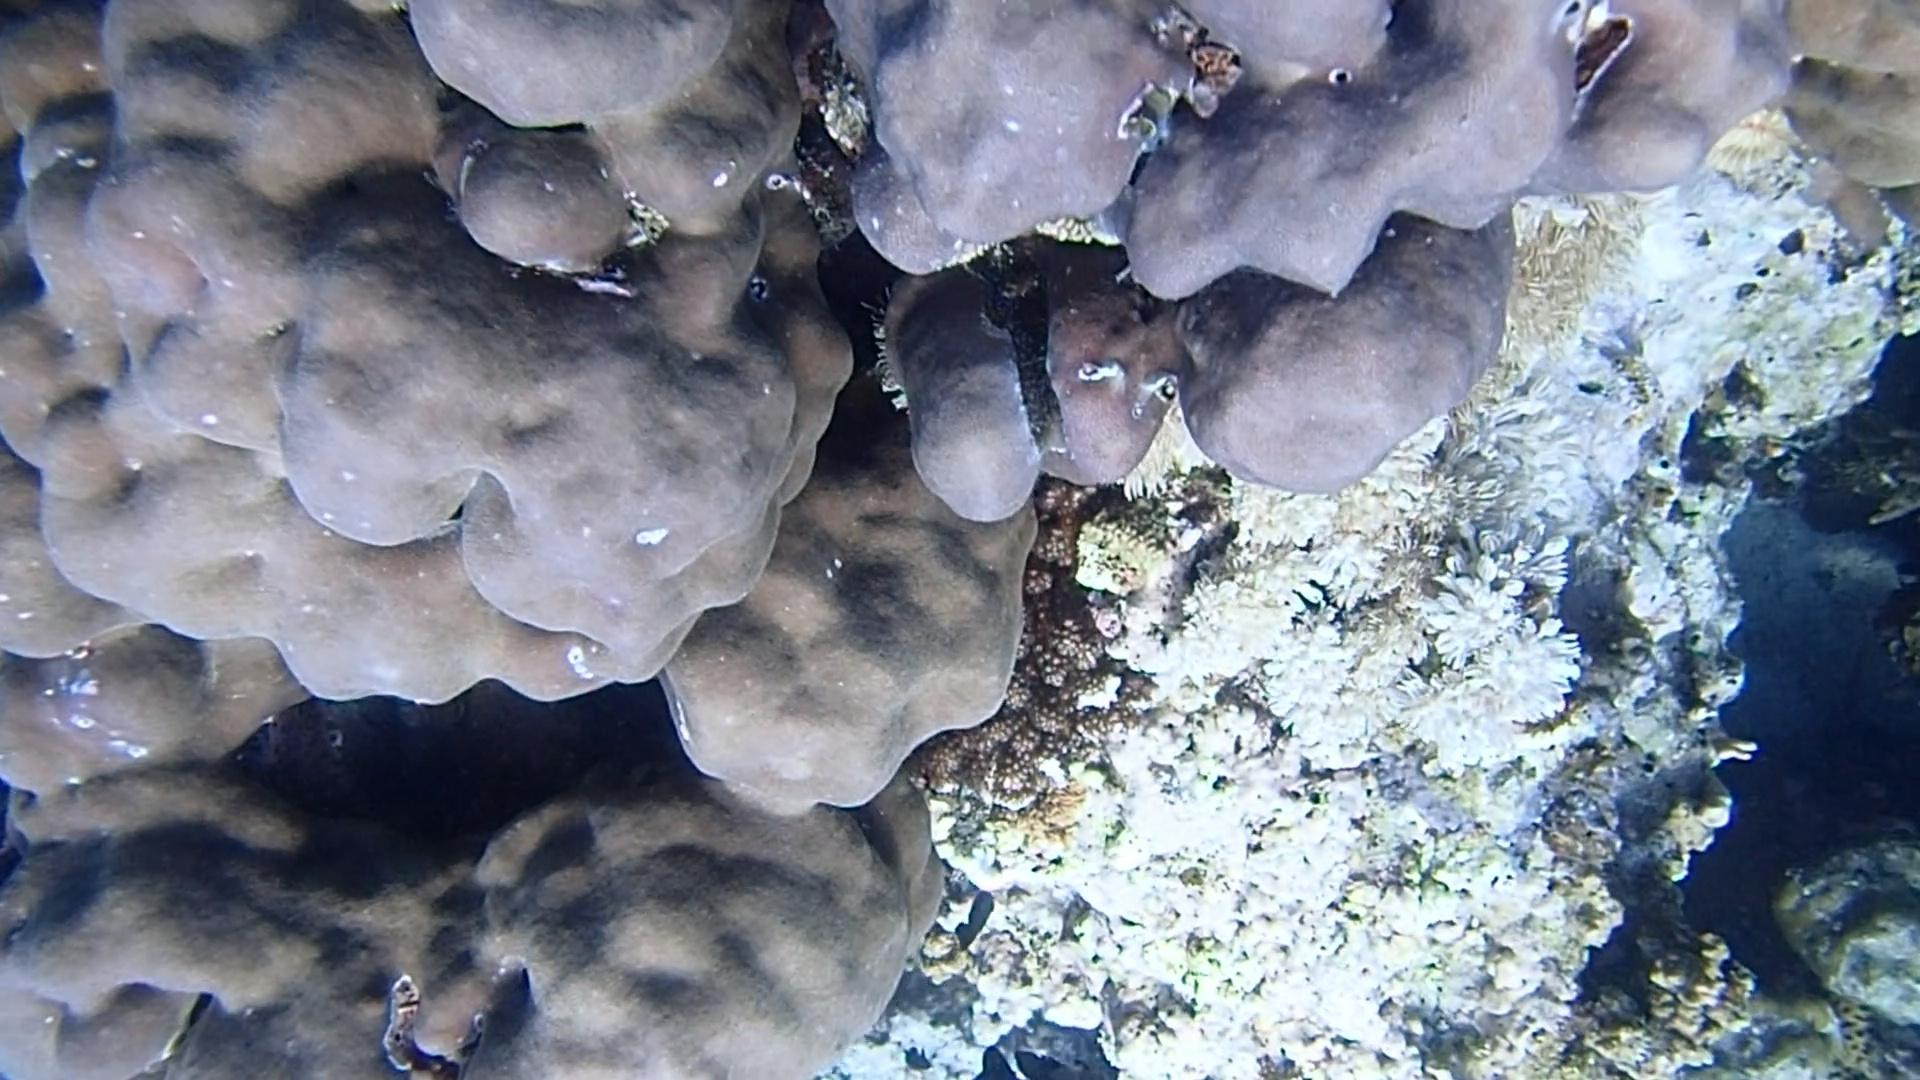Dark Fish: (948, 887, 1002, 956), (894, 1039, 934, 1073)
